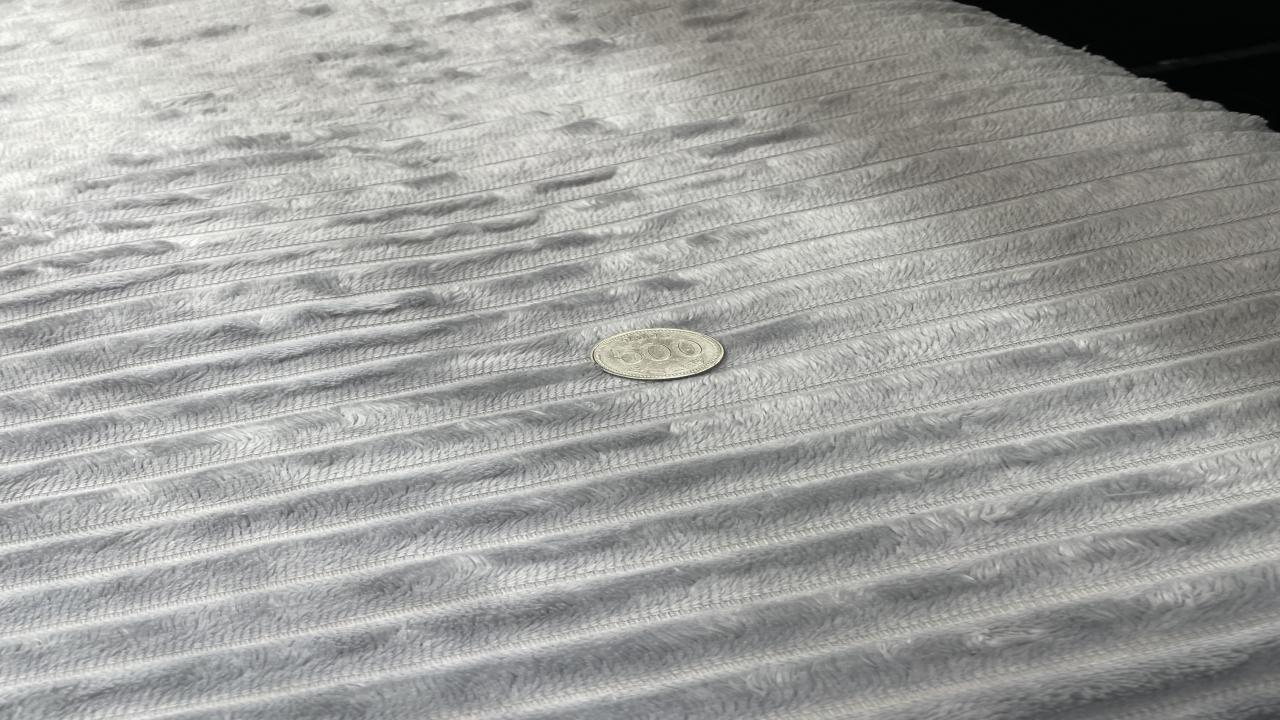coin: (590, 325, 726, 382)
